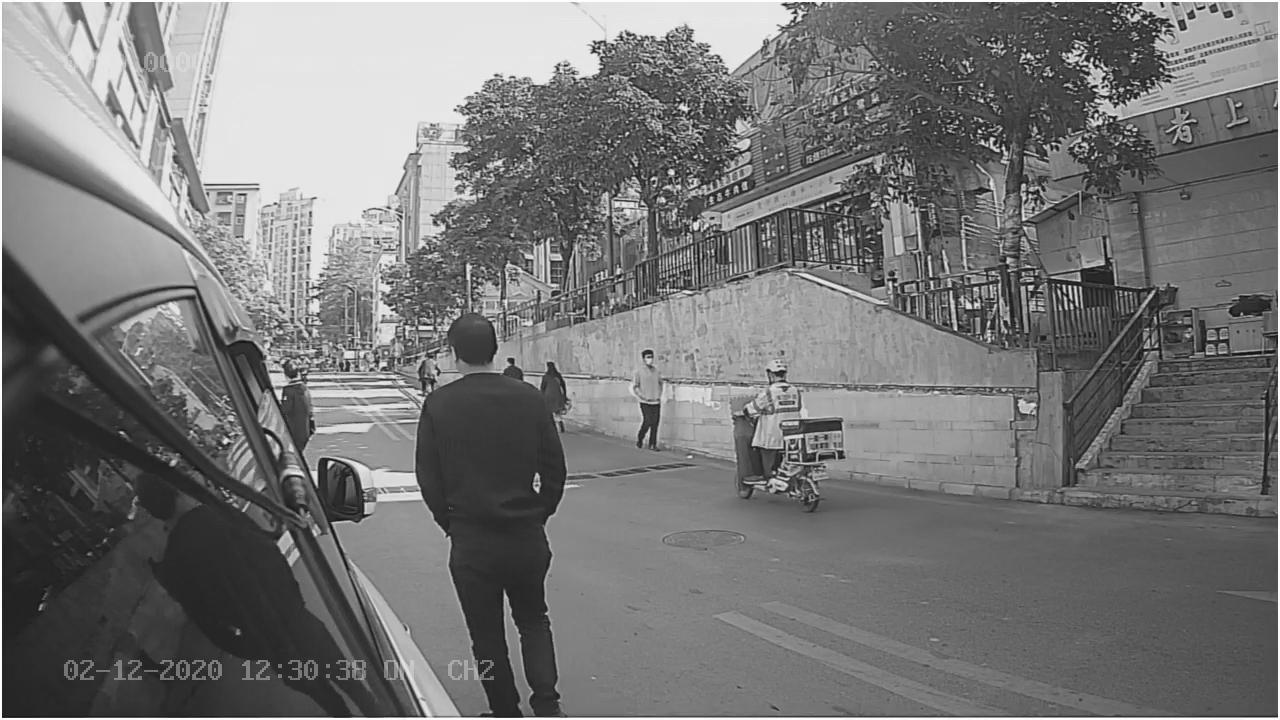person: (417, 305, 570, 486)
